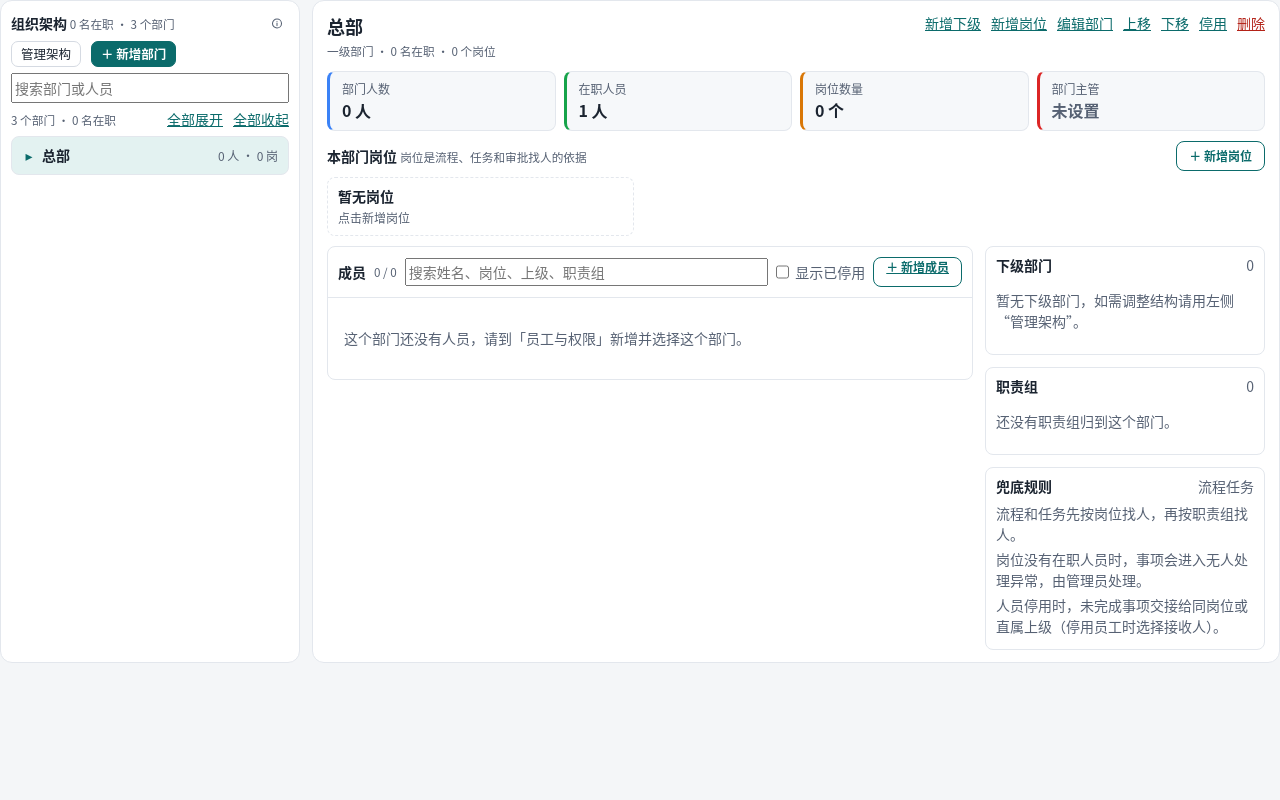
组织架构：旧版“左树右卷宗”结构 › “管理架构”弹窗按层级分列，可新增/编辑/下架
Expected: the button "总部" is shown, [42,145,214,166]
Step 1. Click the button "管理架构" → (46, 54), box [11,41,81,67]
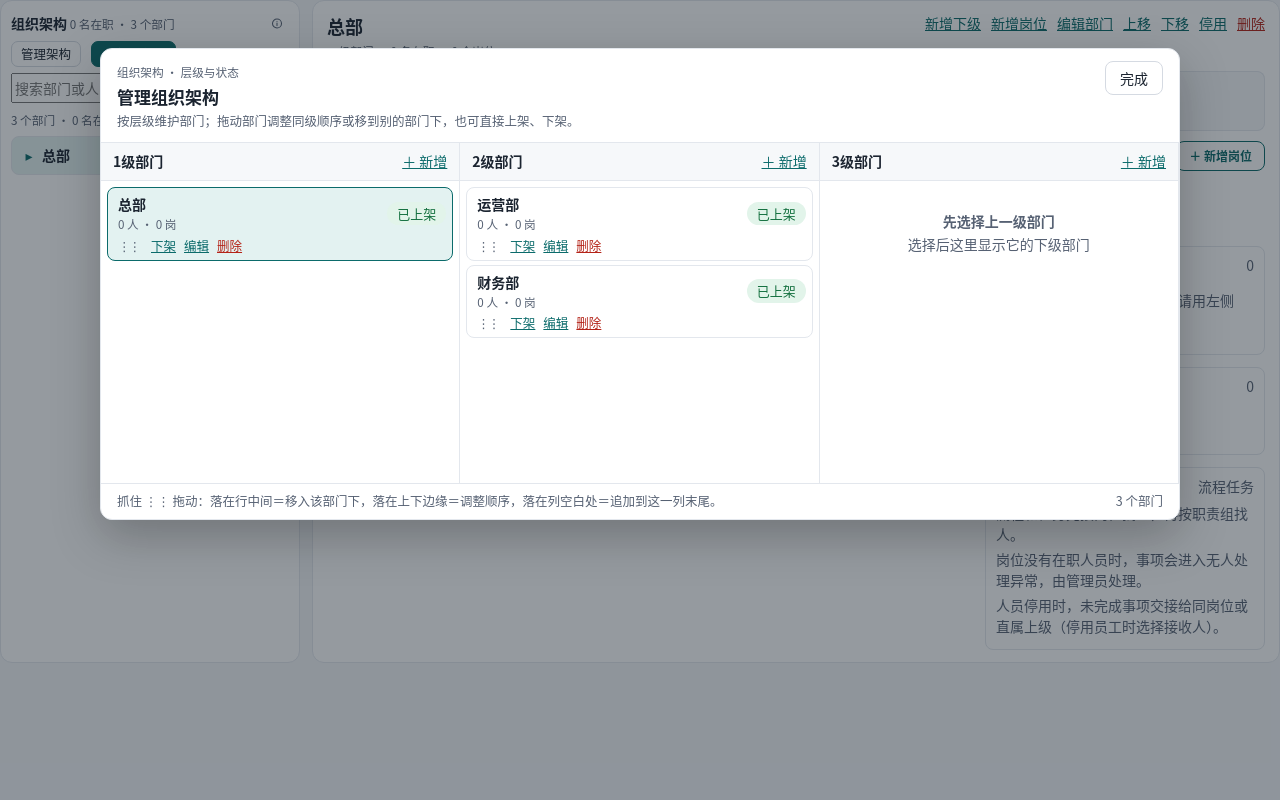
Expected: the text "运营部" is shown, [477,194,519,215]
Expected: the 1st button "下架" is shown, [151,237,176,256]
